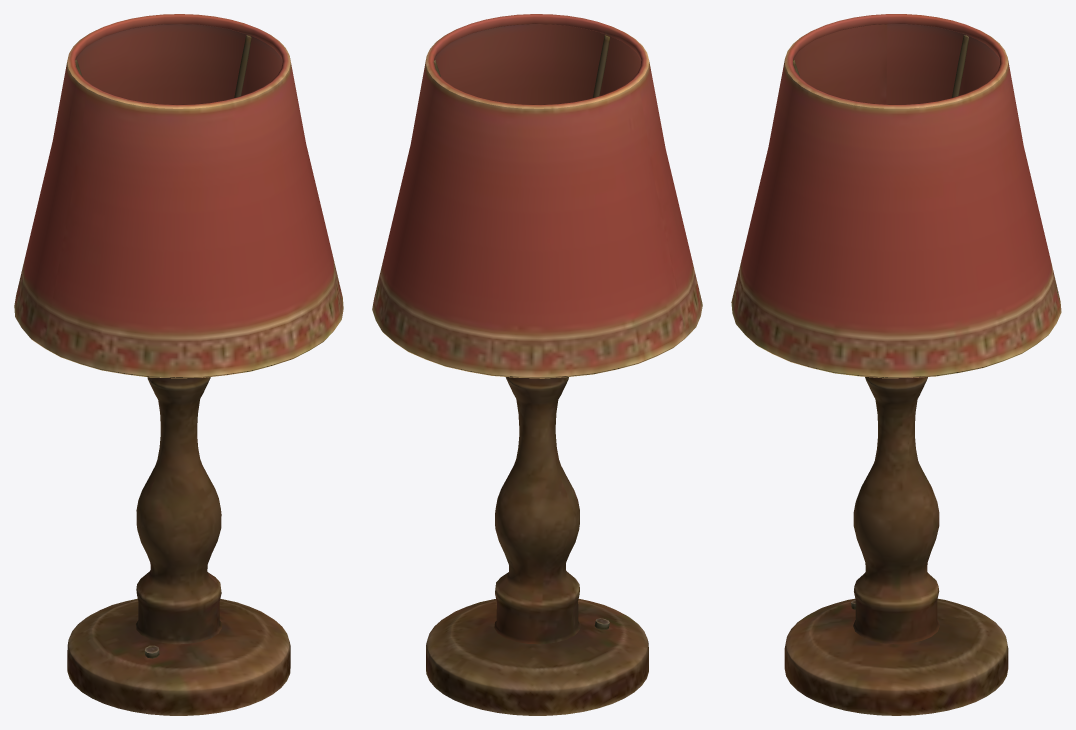
The model's file is SM_Night_lamp_1_033b00.glb.
3 views of the same model, side by side, from view 1: azimuth 30°, elevation 25°; view 2: azimuth 150°, elevation 25°; view 3: azimuth 270°, elevation 25° (orthographic).
Size of the model in its own units: 0.2903 by 0.5918 by 0.2903.
Materials: 1 (1 with a texture image).
